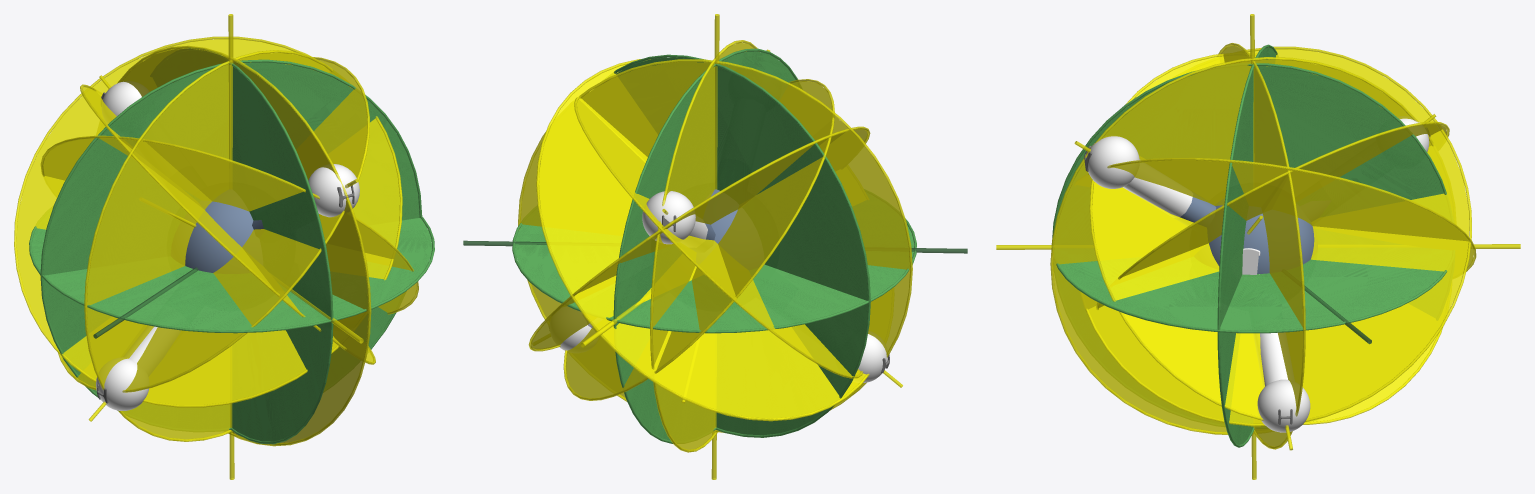
3 renders of one model, left to right at view 1: azimuth 30°, elevation 25°; view 2: azimuth 150°, elevation 25°; view 3: azimuth 270°, elevation 25°, orthographic.
Parts seen in each view (by area): view 1: Circle.008, Circle.009, Circle.003, Circle, Circle.010, Circle.002, Circle.001, Circle.006, Circle.007, Circle.005, CH4, Circle.004 (+3 smaller); view 2: Circle.010, Circle.003, Circle.008, Circle.007, Circle.006, Circle.002, Circle.001, Circle, Circle.009, Circle.011, Circle.004, Circle.005 (+3 smaller); view 3: Circle.011, Circle.001, Circle.007, Circle.002, Circle, Circle.010, CH4, Circle.004, Circle.008, Circle.005, Circle.009, Circle.003 (+2 smaller).
Boxes of the visible parts, left/top/right/bottom form: Circle.008: left=84, top=50, right=332, bottom=441; Circle.009: left=14, top=36, right=402, bottom=407; Circle.003: left=40, top=59, right=422, bottom=429; Circle: left=188, top=48, right=333, bottom=444; Circle.010: left=58, top=57, right=369, bottom=392; Circle.002: left=29, top=216, right=434, bottom=333; Circle.001: left=117, top=45, right=371, bottom=446; Circle.006: left=40, top=60, right=421, bottom=429; Circle.007: left=40, top=135, right=418, bottom=314; Circle.005: left=231, top=64, right=332, bottom=443; CH4: left=96, top=81, right=359, bottom=410; Circle.004: left=29, top=217, right=434, bottom=332; Circle.010: left=536, top=59, right=869, bottom=421; Circle.003: left=614, top=54, right=870, bottom=437; Circle.008: left=518, top=59, right=912, bottom=432; Circle.007: left=563, top=79, right=834, bottom=400; Circle.006: left=614, top=55, right=870, bottom=437; Circle.002: left=512, top=218, right=916, bottom=333; Circle.001: left=650, top=40, right=757, bottom=452; Circle: left=613, top=48, right=797, bottom=443; Circle.009: left=574, top=97, right=863, bottom=378; Circle.011: left=528, top=126, right=870, bottom=351; Circle.004: left=512, top=220, right=916, bottom=332; Circle.005: left=614, top=49, right=797, bottom=443; Circle.011: left=1085, top=46, right=1471, bottom=426; Circle.001: left=1050, top=57, right=1434, bottom=434; Circle.007: left=1089, top=53, right=1442, bottom=424; Circle.002: left=1056, top=259, right=1447, bottom=333; Circle: left=1052, top=63, right=1446, bottom=237; Circle.010: left=1088, top=157, right=1476, bottom=271; CH4: left=1084, top=118, right=1430, bottom=432; Circle.004: left=1056, top=260, right=1446, bottom=332; Circle.008: left=1218, top=43, right=1305, bottom=449; Circle.005: left=1052, top=63, right=1446, bottom=235; Circle.009: left=1096, top=121, right=1449, bottom=309; Circle.003: left=1217, top=44, right=1277, bottom=447.
Size of the model in its own units: 268 by 306 by 314.
